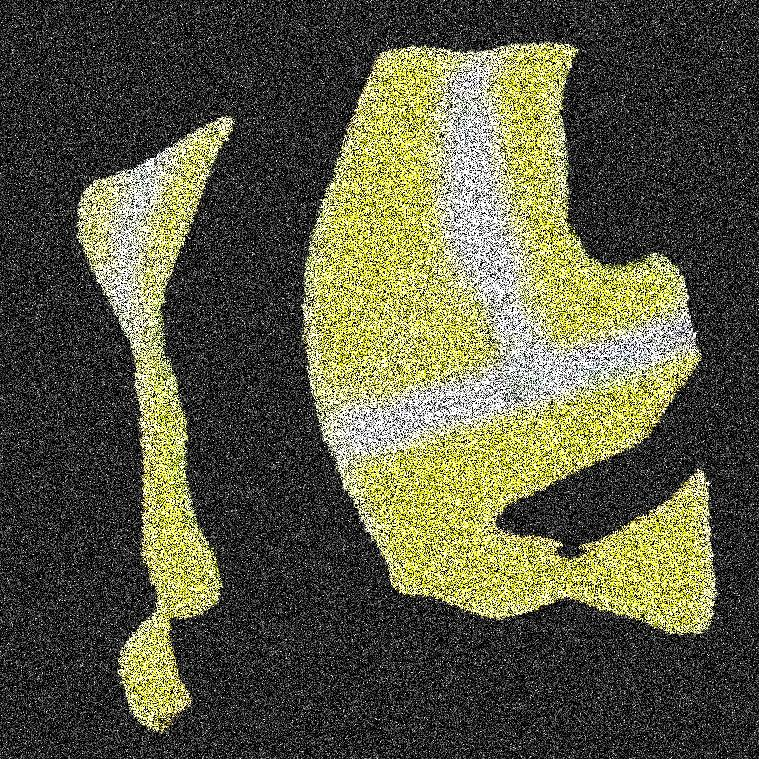Colete: (435, 0, 617, 758)
